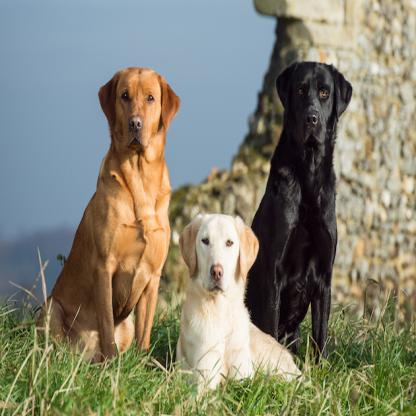dog: (35, 69, 183, 359), (242, 63, 353, 344), (178, 210, 301, 392)
